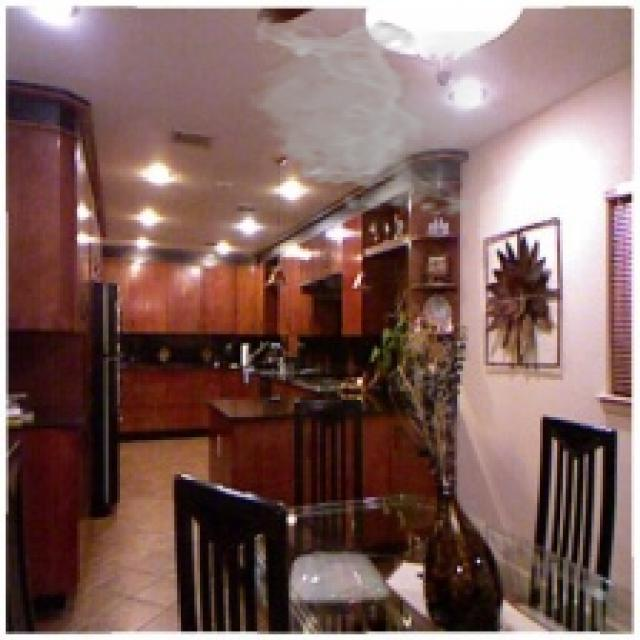Smoke: (246, 17, 508, 223)
